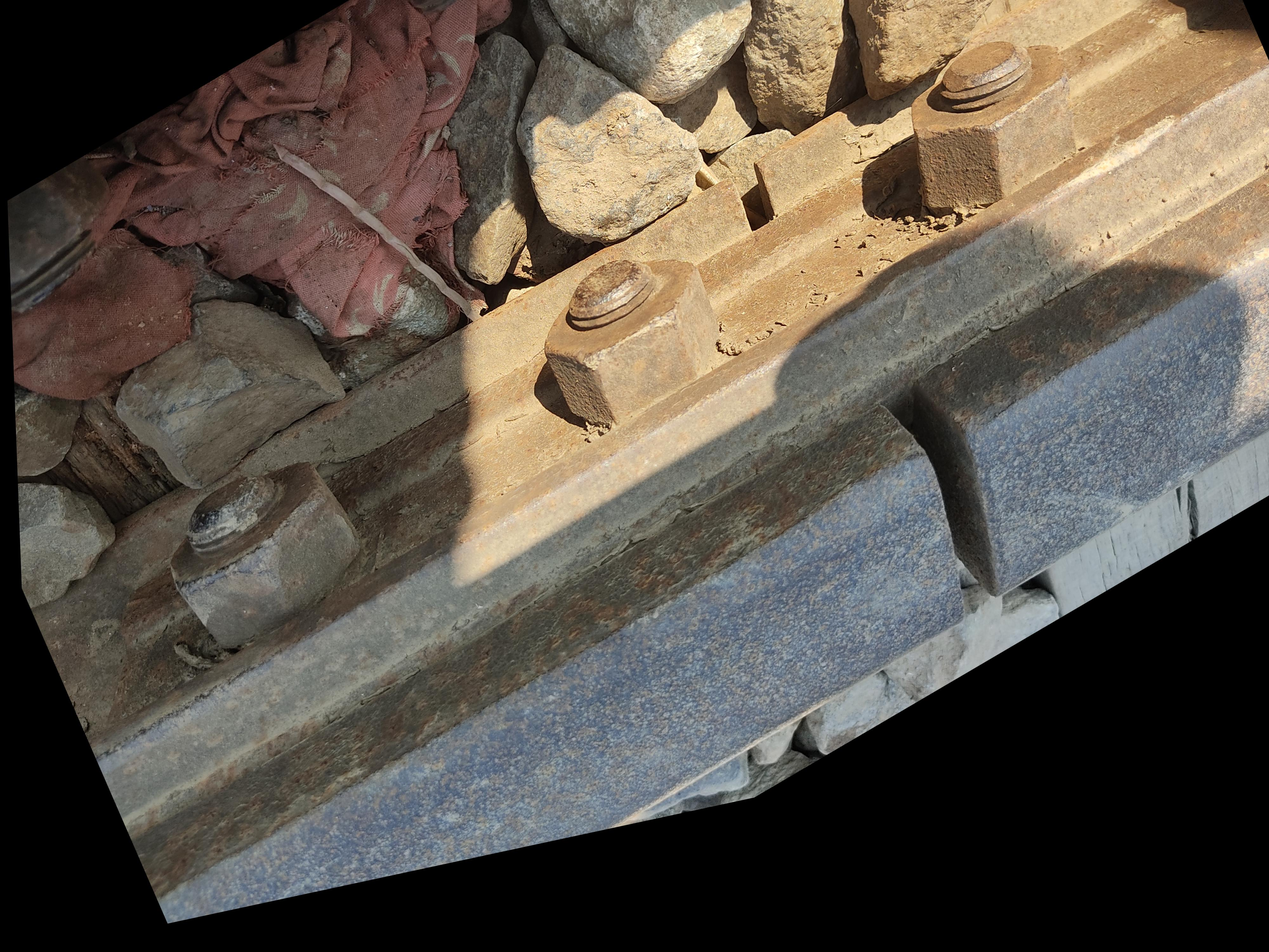person: (503, 703, 700, 870), (456, 606, 542, 701)
